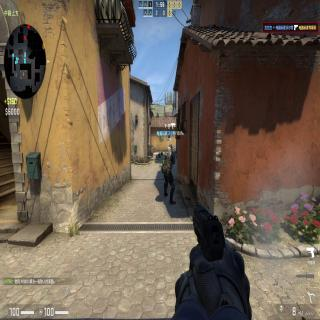CT-Body: (161, 143, 177, 205)
CT-Head: (168, 143, 173, 152)
